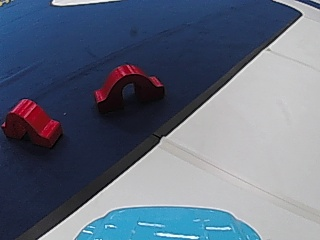bridge: (91, 60, 166, 112), (2, 97, 64, 147)
